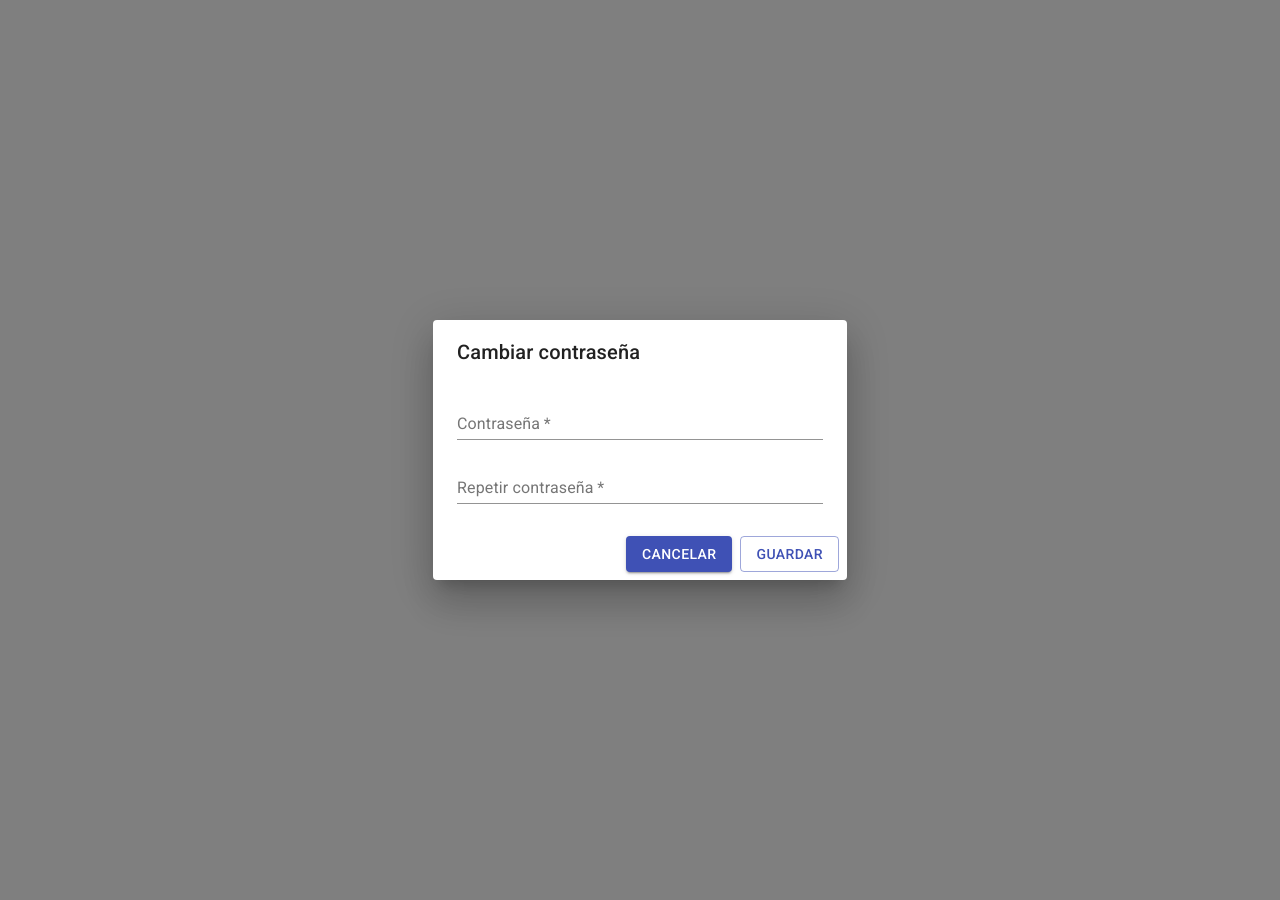
change password › show errors when fields are wrong
This screenshot has width=1280, height=900.
Click the button "Guardar". click: (790, 554)
box: [740,536,839,572]
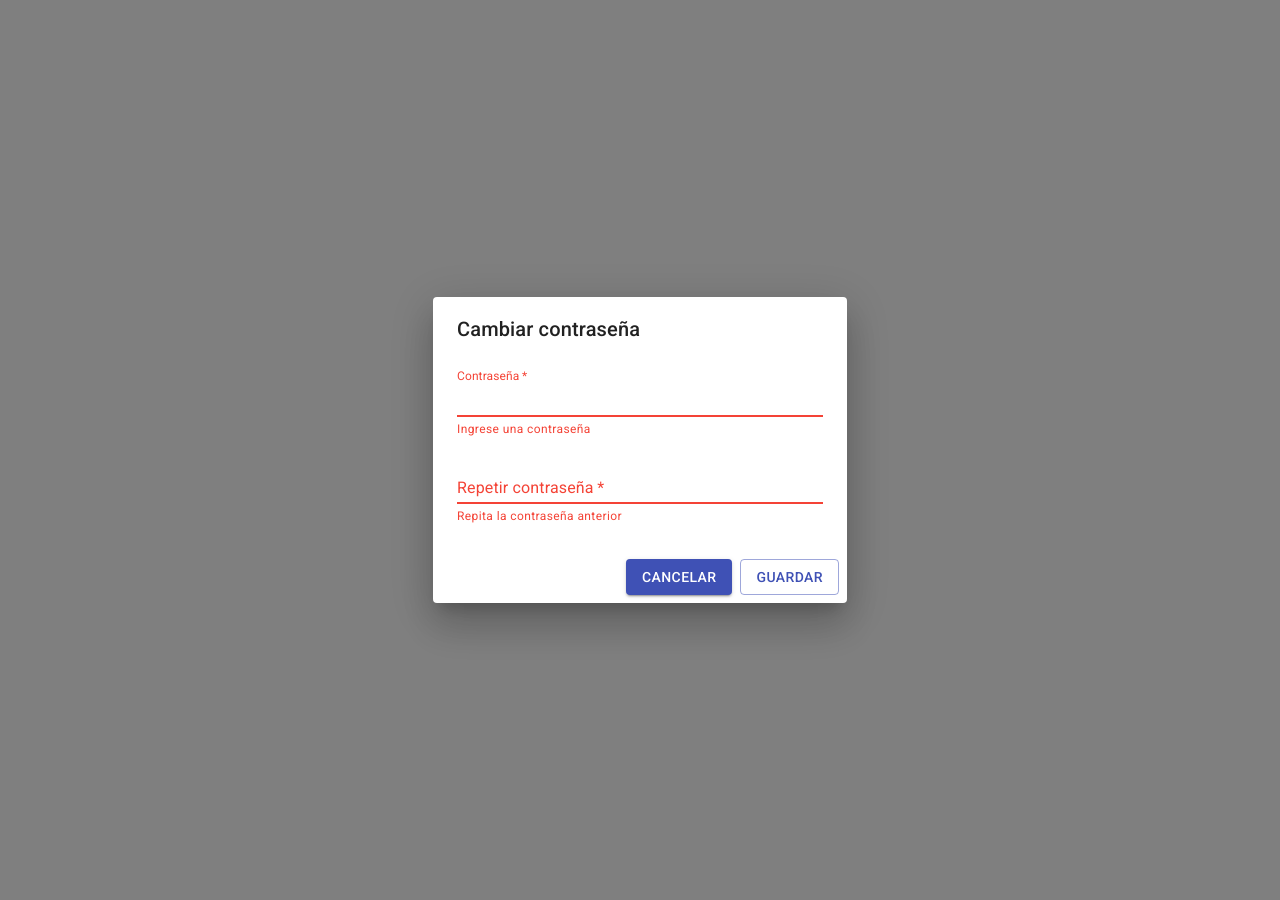
Expected: the text "Ingrese una contraseña" is shown, [457,422,591,436]
Expected: the text "Repita la contraseña anterior" is shown, [457,509,622,523]
